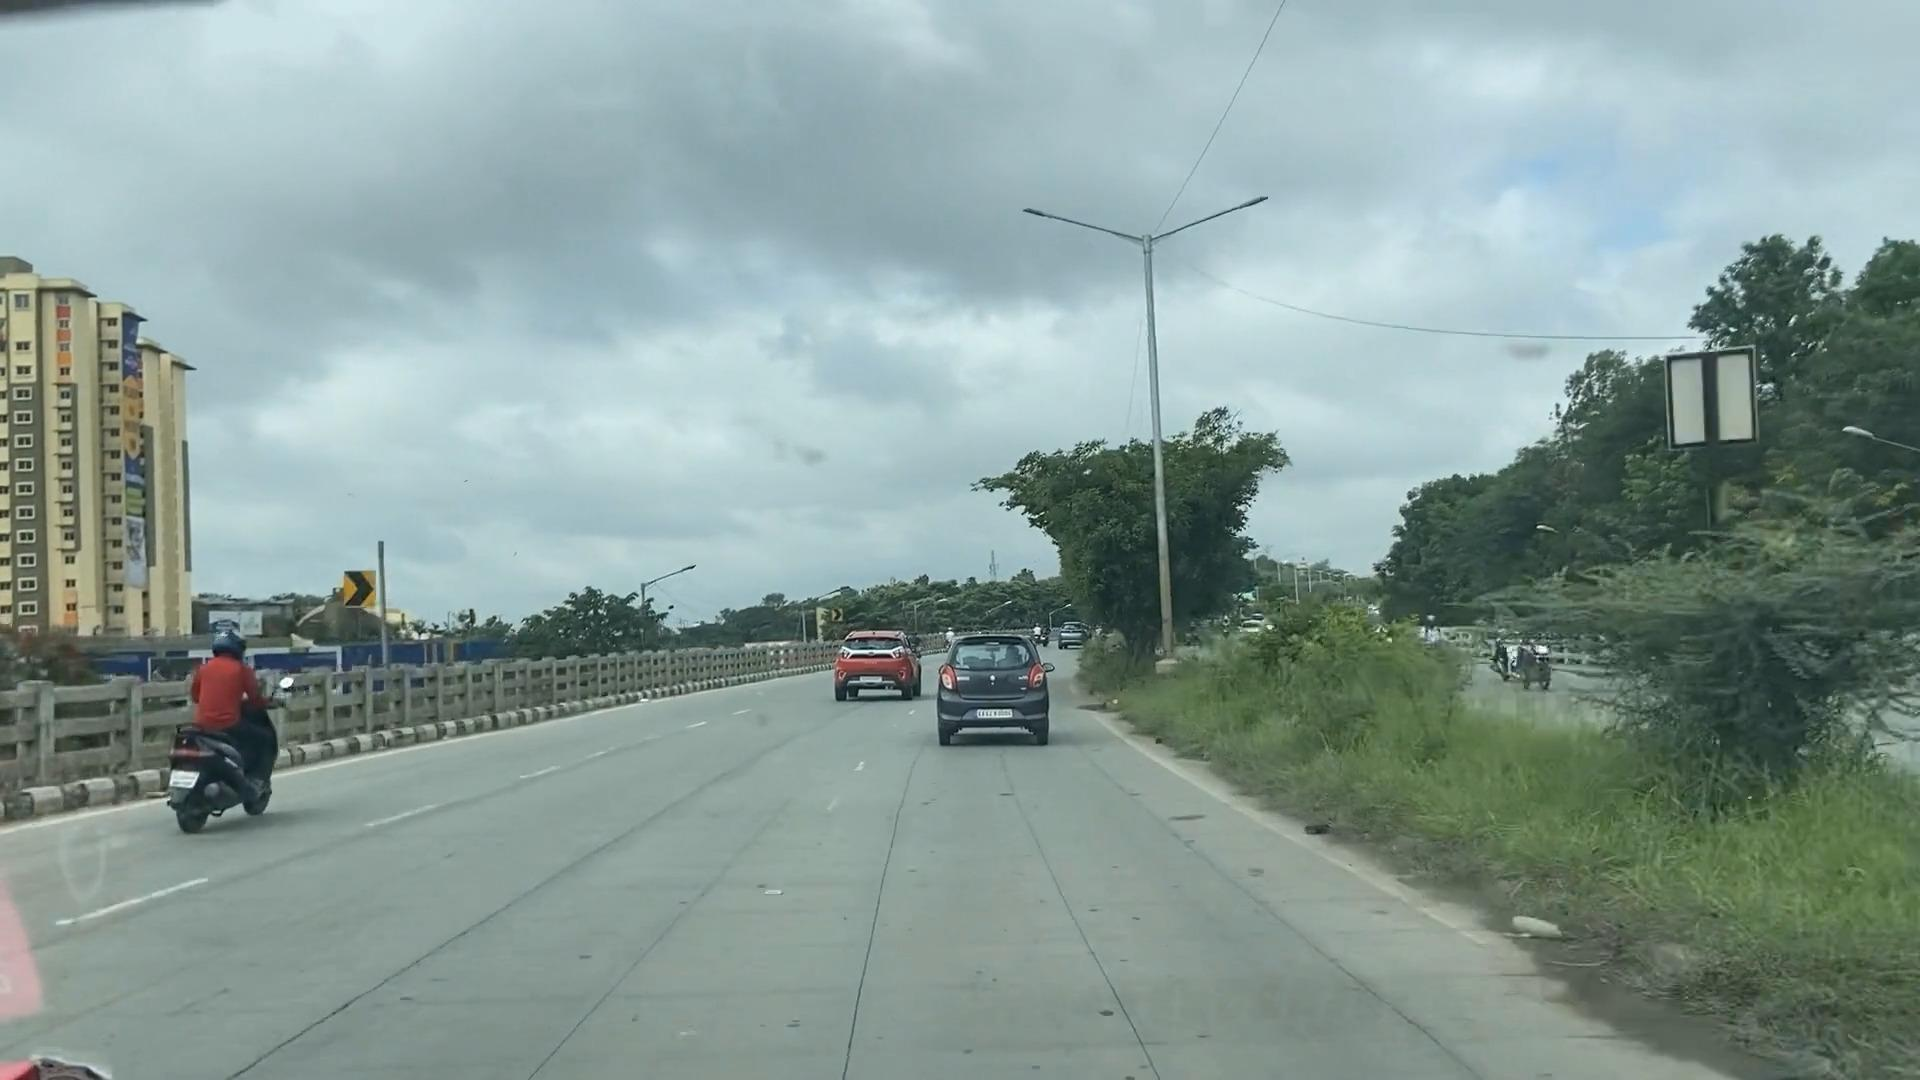LMV: (190, 638, 265, 795), (942, 638, 1034, 741), (829, 628, 913, 699)
